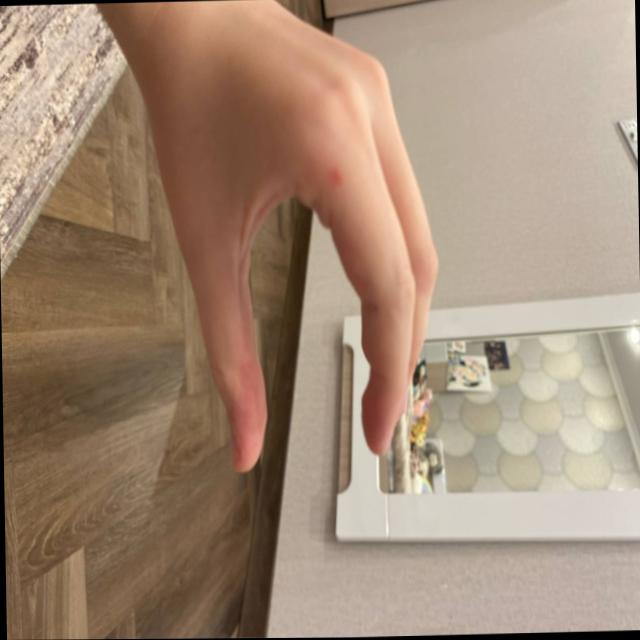s: (102, 22, 466, 512)
